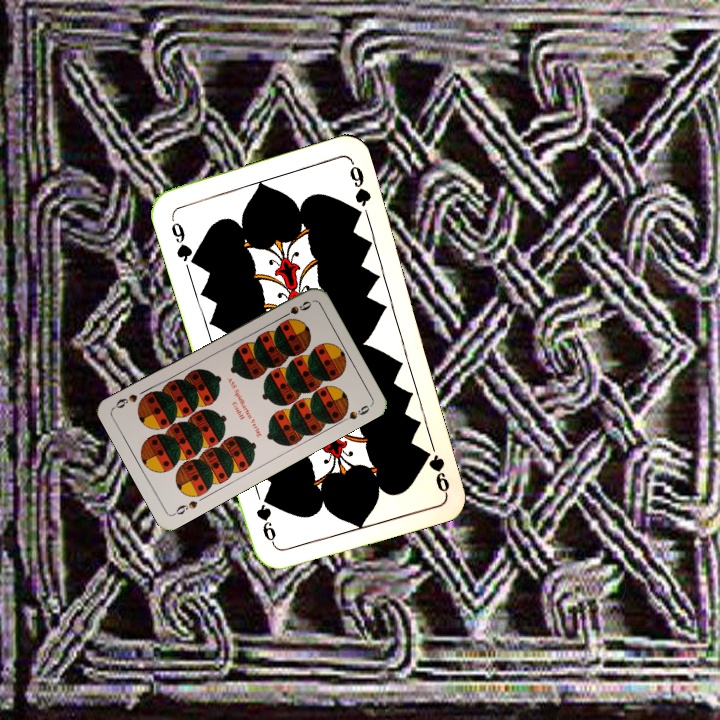G9: (166, 213, 199, 268), (425, 437, 452, 495)
S9: (276, 297, 314, 322), (169, 496, 200, 518)
